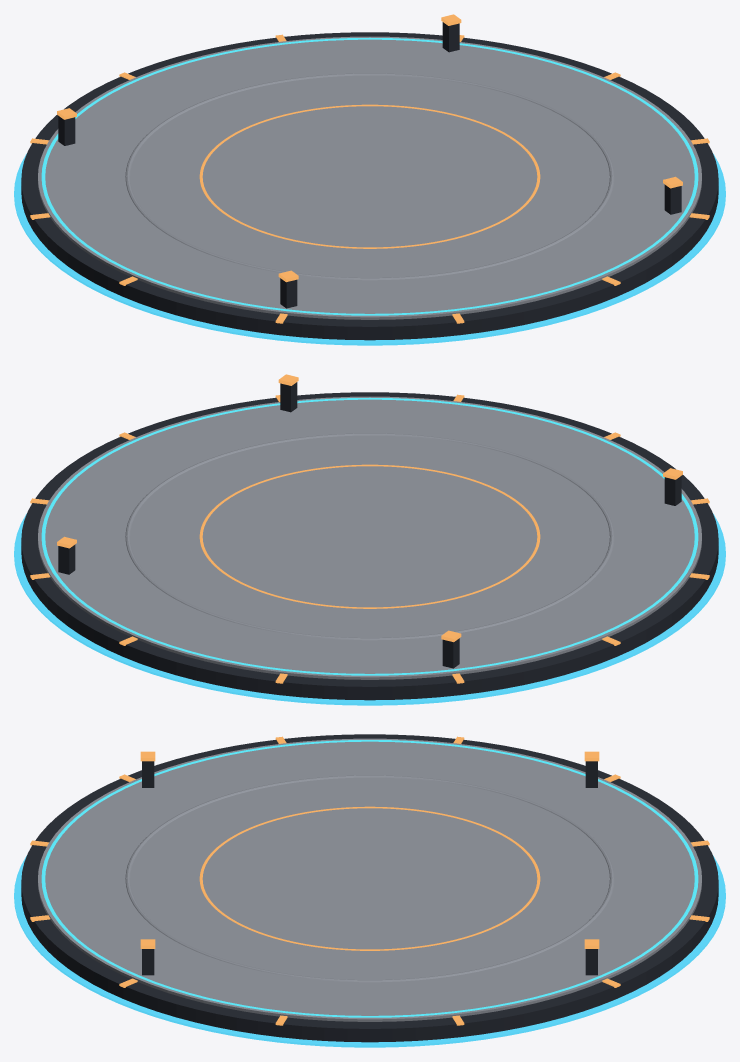
File: env_capture_zone_v2.glb
The picture shows the model from 3 angles, top to bottom: view 1: azimuth 30°, elevation 25°; view 2: azimuth 150°, elevation 25°; view 3: azimuth 270°, elevation 25°; orthographic projection.
Parts seen in each view (by area): view 1: CZ_RimStep, CZ_RimOuter, CZ_UnderGlow, CZ_RimGlow, CZ_TrimRing, CZ_MidRing; view 2: CZ_RimStep, CZ_RimOuter, CZ_UnderGlow, CZ_RimGlow, CZ_TrimRing, CZ_MidRing; view 3: CZ_RimStep, CZ_RimOuter, CZ_UnderGlow, CZ_RimGlow, CZ_TrimRing, CZ_MidRing.
Boxes of the visible parts, <box> form: CZ_RimStep: <box>38,36,701,319</box>; CZ_RimOuter: <box>21,32,718,340</box>; CZ_UnderGlow: <box>14,153,725,345</box>; CZ_RimGlow: <box>41,37,698,315</box>; CZ_TrimRing: <box>125,73,614,280</box>; CZ_MidRing: <box>199,104,540,248</box>; CZ_RimStep: <box>38,396,701,679</box>; CZ_RimOuter: <box>21,392,718,700</box>; CZ_UnderGlow: <box>14,513,725,705</box>; CZ_RimGlow: <box>41,397,698,675</box>; CZ_TrimRing: <box>125,433,614,640</box>; CZ_MidRing: <box>199,464,540,608</box>; CZ_RimStep: <box>38,738,701,1021</box>; CZ_RimOuter: <box>21,734,718,1042</box>; CZ_UnderGlow: <box>14,855,725,1047</box>; CZ_RimGlow: <box>41,740,698,1017</box>; CZ_TrimRing: <box>125,775,614,982</box>; CZ_MidRing: <box>199,806,540,950</box>.
Bounding box in the file's own units: 19.4 × 1.46 × 19.4.
